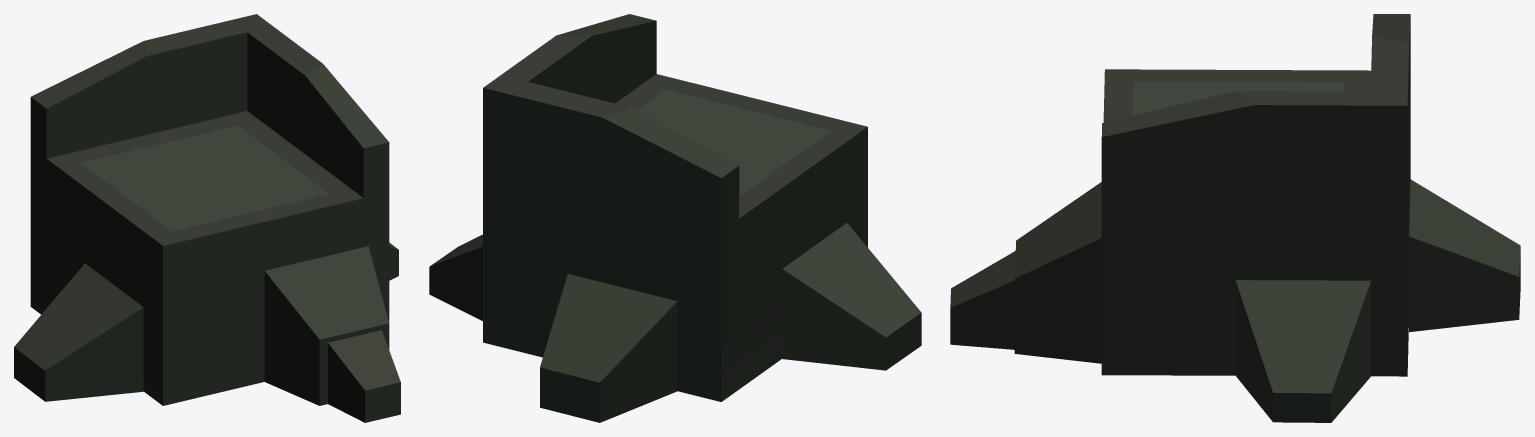
File: SF_Prop_Goblin_Seat_02.glb
3 views of the same model, side by side, from view 1: azimuth 30°, elevation 25°; view 2: azimuth 150°, elevation 25°; view 3: azimuth 270°, elevation 25° (orthographic). The views are drawn at different scales.
Parts seen in each view (by area): view 1: SF_Prop_Goblin_Seat_02; view 2: SF_Prop_Goblin_Seat_02; view 3: SF_Prop_Goblin_Seat_02.
Part boxes in pixels (x1,y1,x2,y2): SF_Prop_Goblin_Seat_02: (14,14,400,422); SF_Prop_Goblin_Seat_02: (429,14,921,422); SF_Prop_Goblin_Seat_02: (950,14,1520,422).
Bounding box in the file's own units: 0.0162 × 0.00937 × 0.0179.
Materials: 1 (1 with a texture image).
